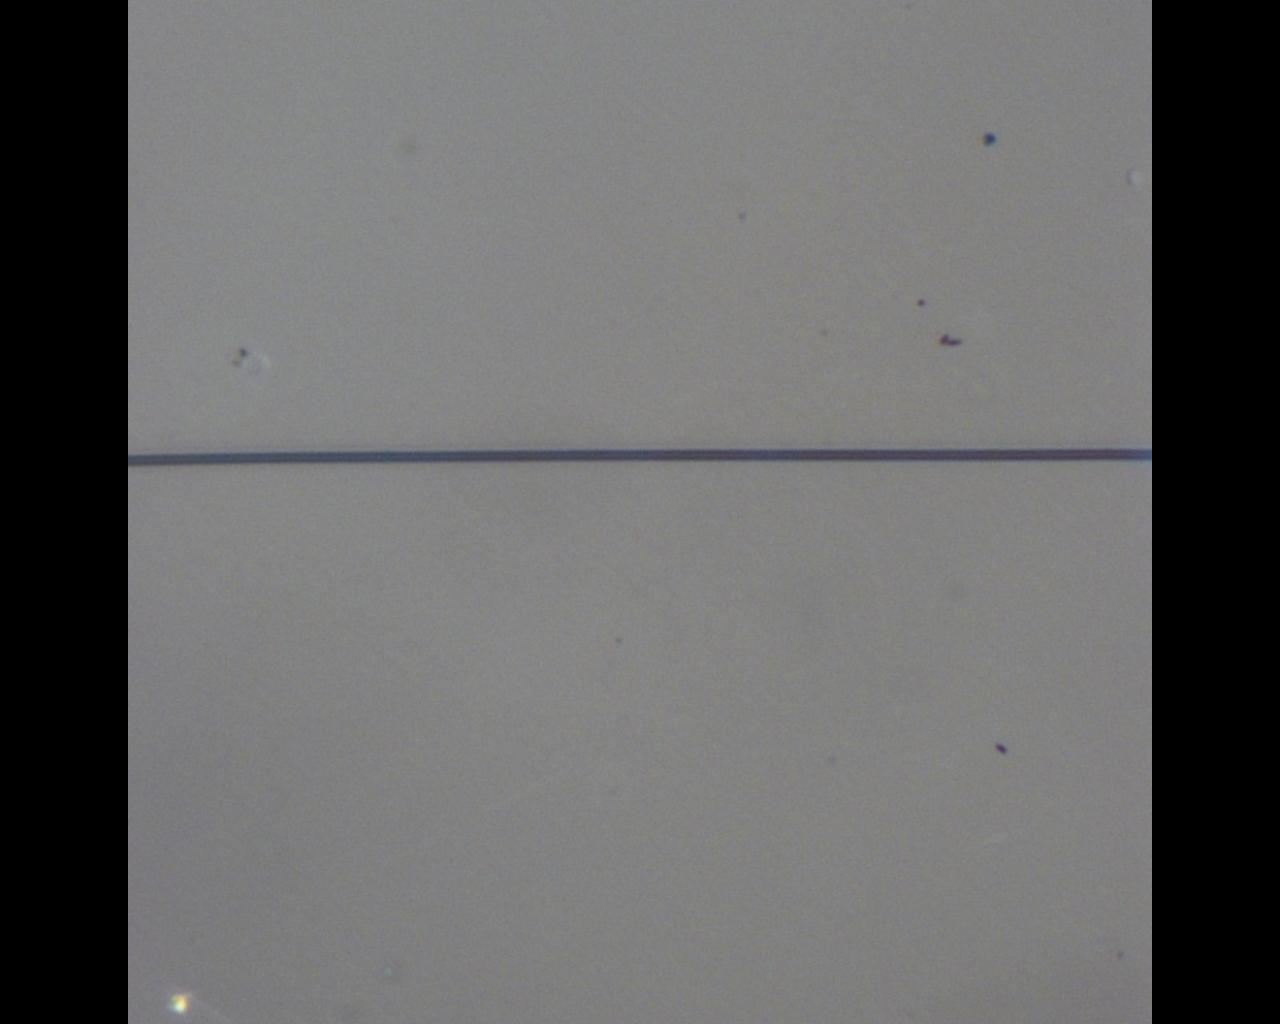fiber: (128, 447, 1152, 469)
